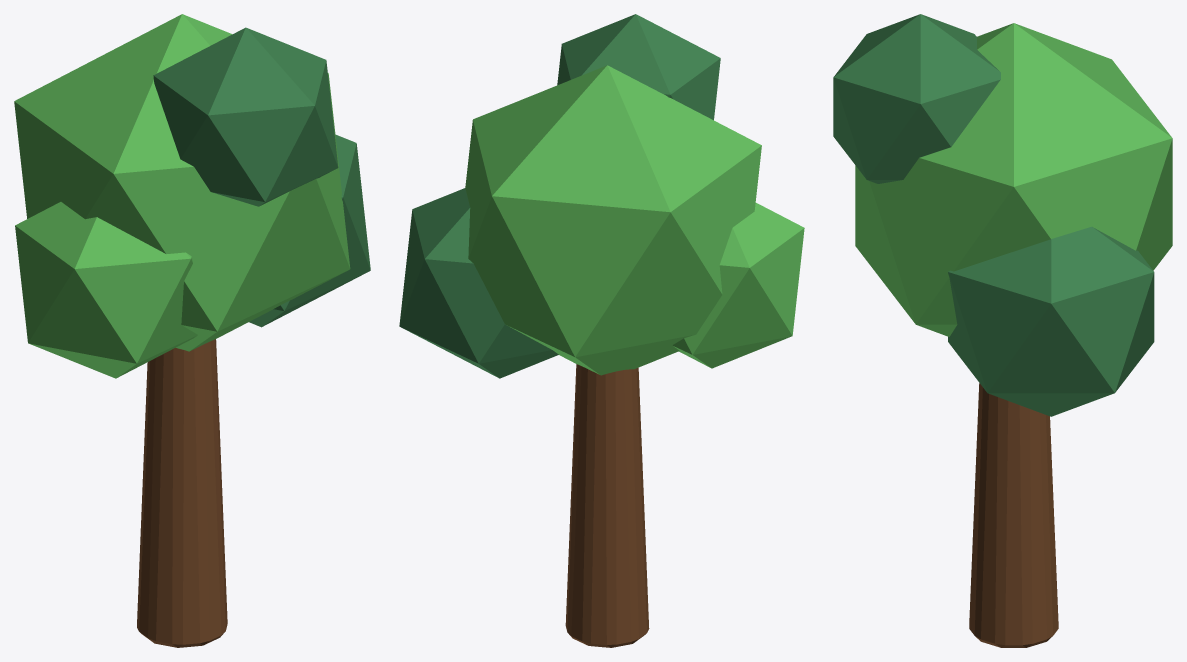
Rendered from CatCafe_Park_Tree.fbx.
3 renders of one model, left to right at view 1: azimuth 30°, elevation 25°; view 2: azimuth 150°, elevation 25°; view 3: azimuth 270°, elevation 25°, orthographic. The views are drawn at different scales.
Visible parts, largest first — view 1: CatCafe_Park_Tree; view 2: CatCafe_Park_Tree; view 3: CatCafe_Park_Tree.
Part boxes in pixels (x1,y1,x2,y2): CatCafe_Park_Tree: (14,14,370,647); CatCafe_Park_Tree: (399,14,804,647); CatCafe_Park_Tree: (833,14,1172,647).
Size of the model in its own units: 4.54 by 7.4 by 3.64.
Materials: 1 (1 with a texture image).
